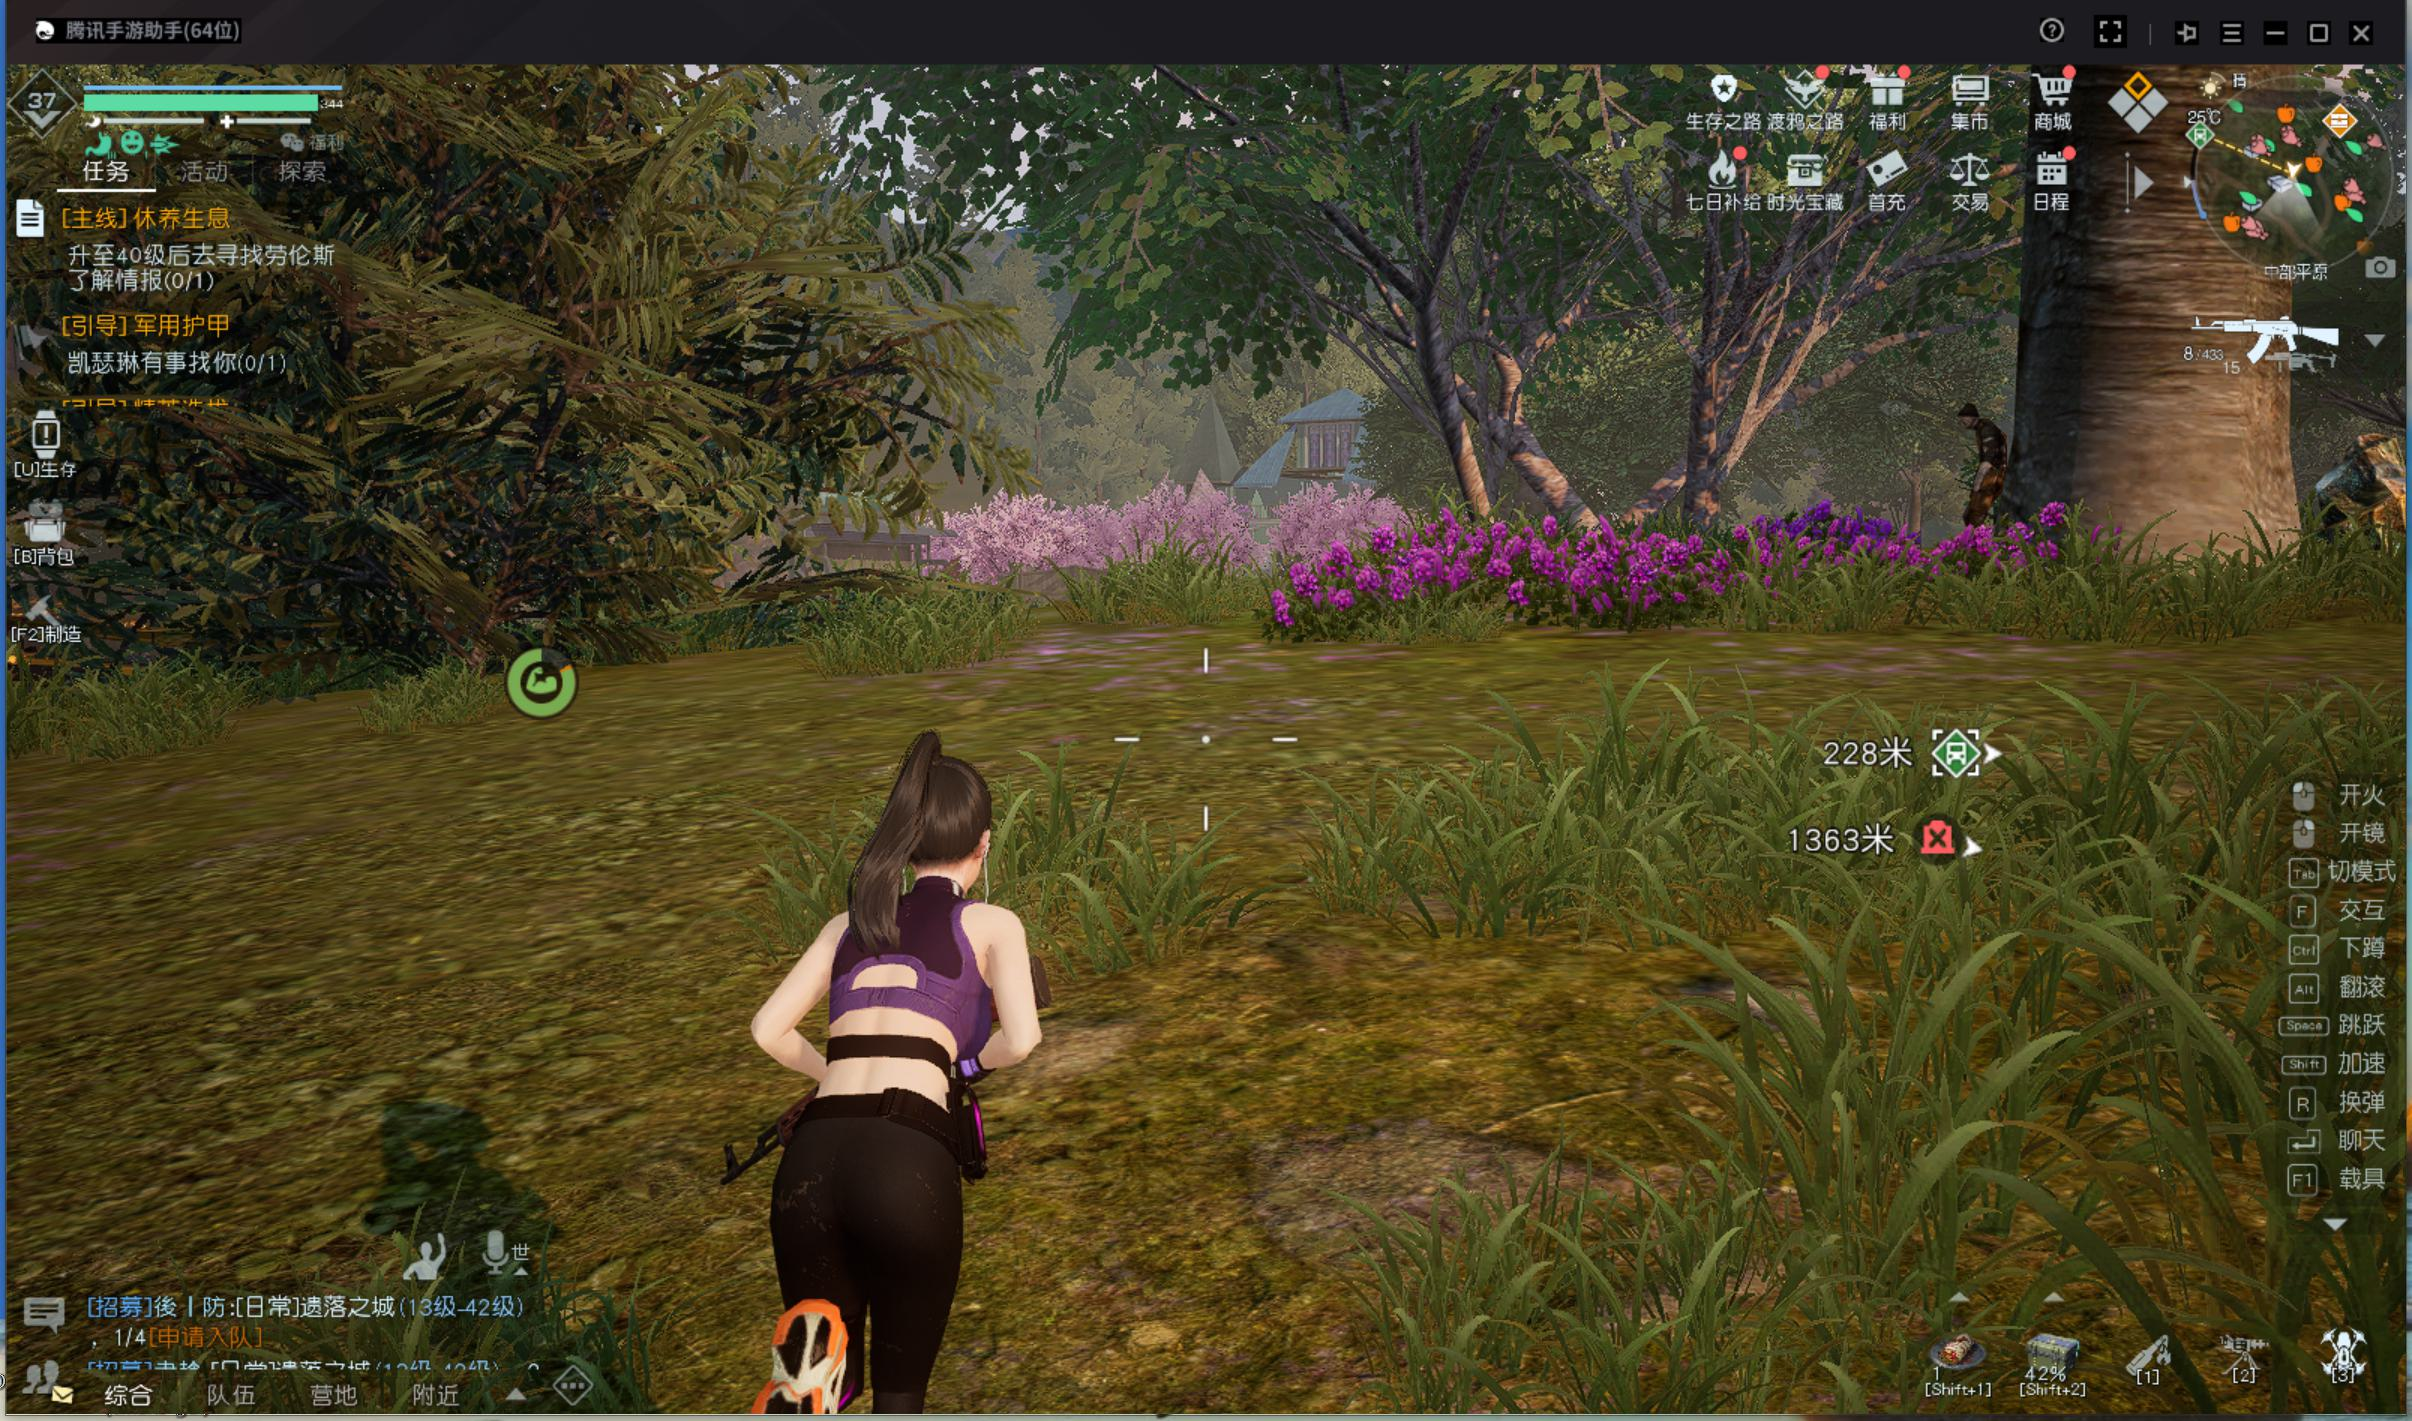tree: (2004, 225, 2311, 599)
